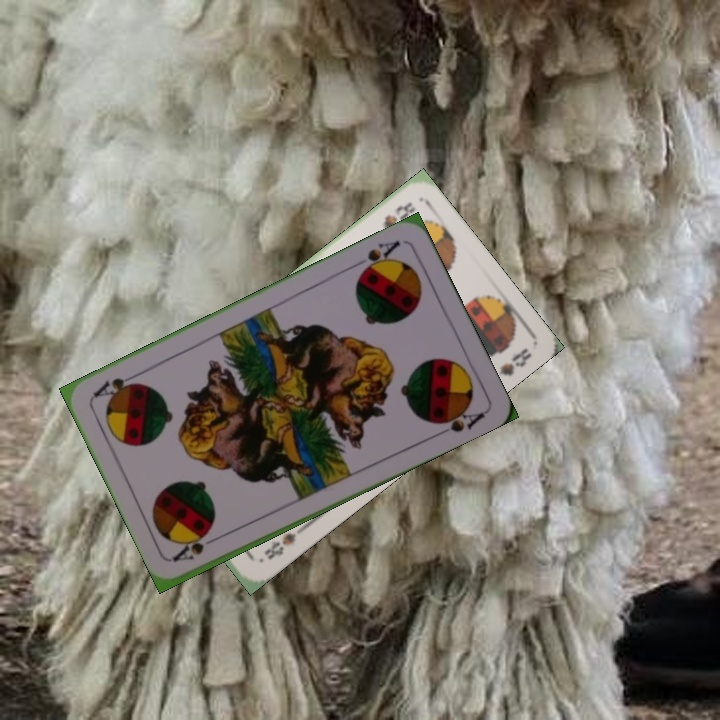S8: (259, 523, 306, 563), (379, 197, 419, 232)
SA: (355, 236, 403, 279), (170, 531, 225, 565)
